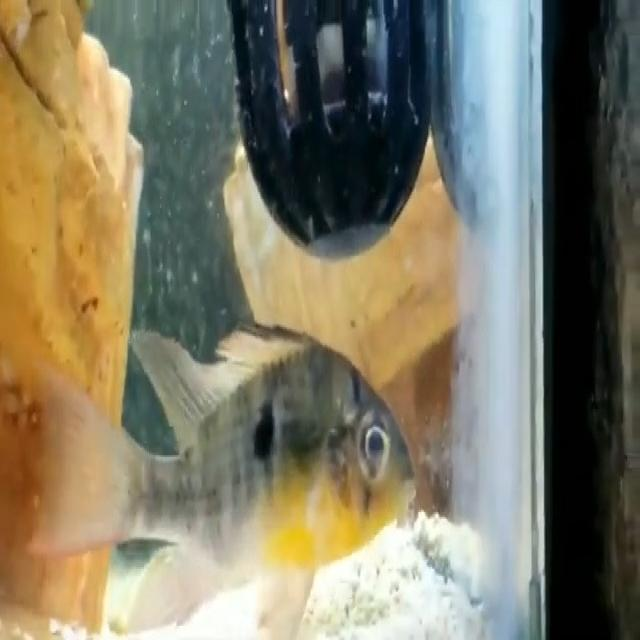fish: (38, 295, 416, 630)
